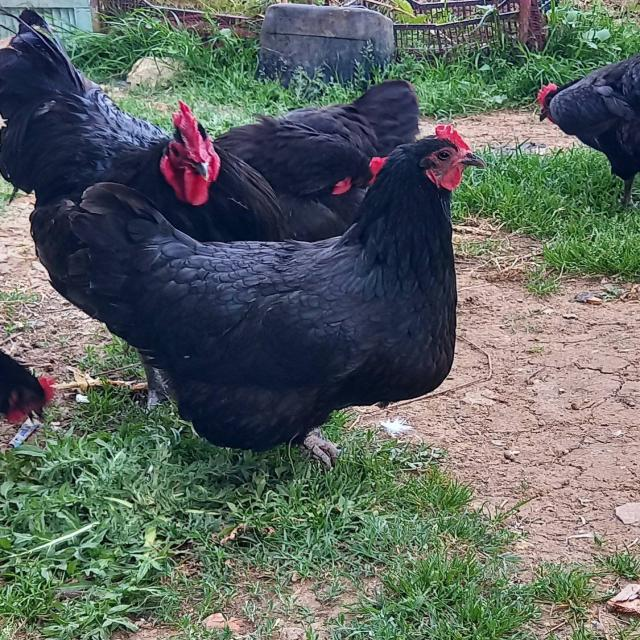Healthy: (33, 123, 480, 469)
